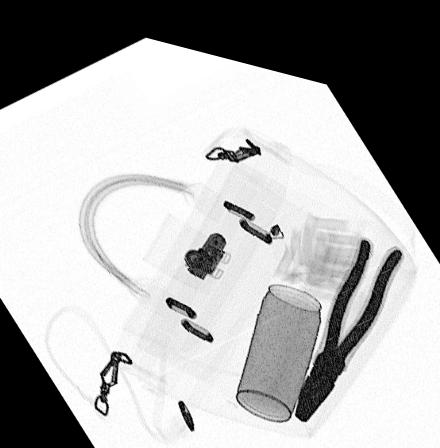Pliers: (292, 217, 406, 410)
